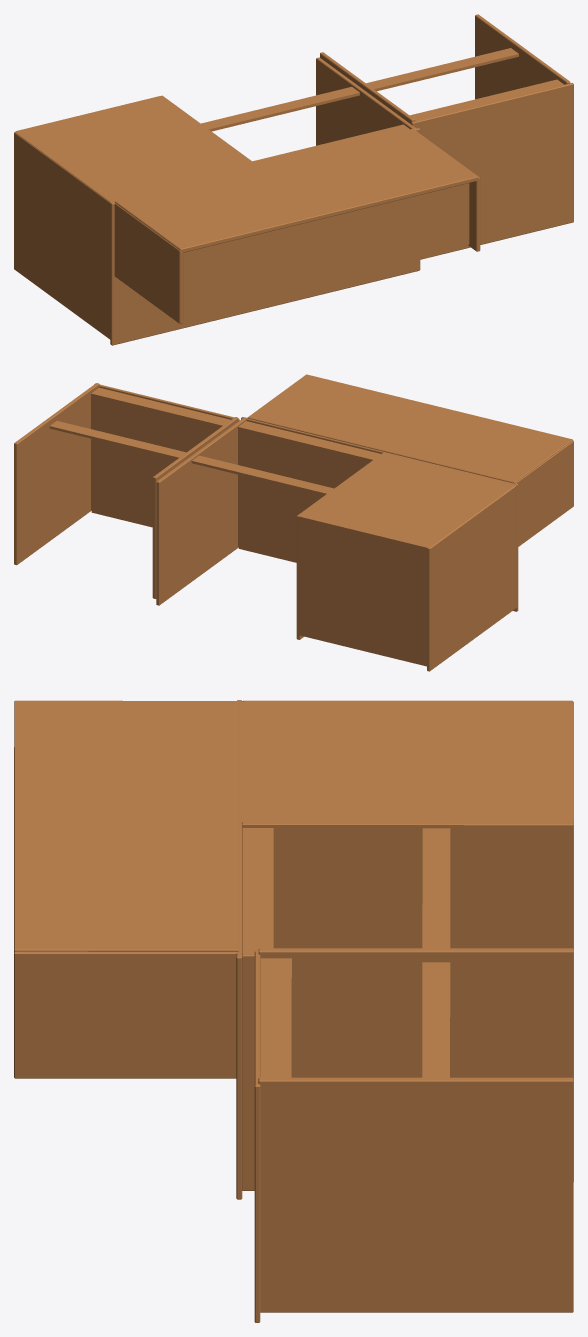
Rendered from Fp320_Cube_1829Desk_320_1_0.obj.
The picture shows the model from 3 angles, top to bottom: view 1: azimuth 30°, elevation 25°; view 2: azimuth 150°, elevation 25°; view 3: azimuth 270°, elevation 25°; orthographic projection. The views are drawn at different scales.
Parts seen in each view (by area): view 1: Desk_320_1; view 2: Desk_320_1; view 3: Desk_320_1.
Boxes of the visible parts, x1,y1,x2,y2 form: Desk_320_1: [14, 14, 573, 345]; Desk_320_1: [14, 374, 573, 671]; Desk_320_1: [14, 700, 573, 1322].
Bounding box in the file's own units: 1.82 × 0.5456 × 1.11.
